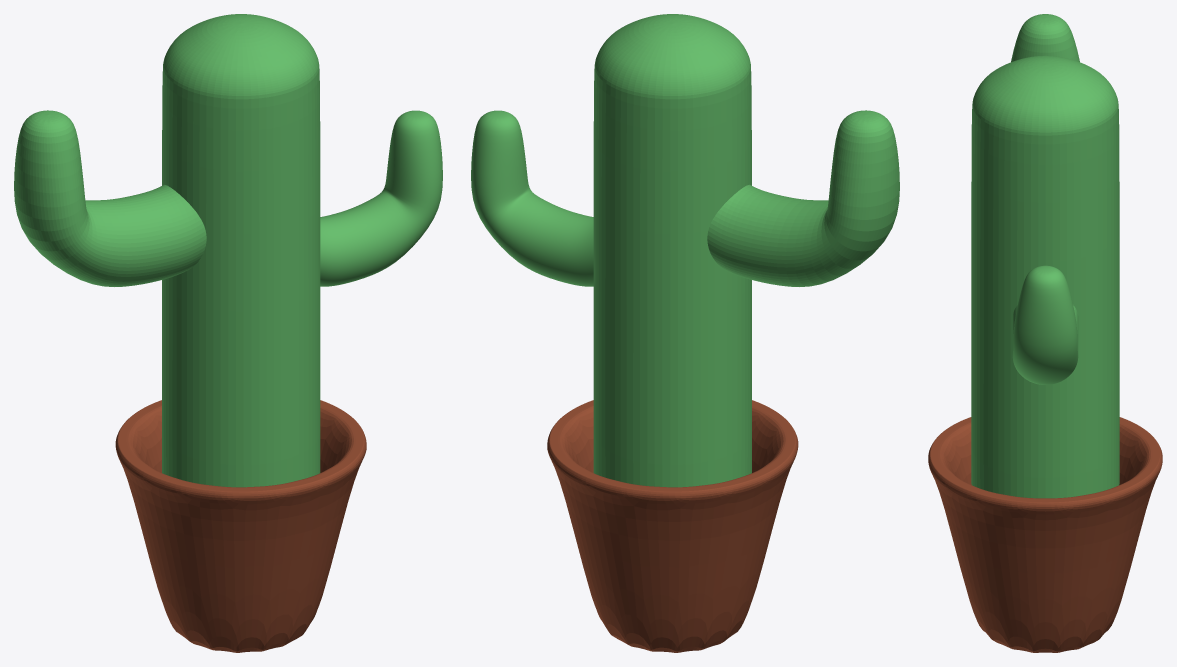
File: Cactus.fbx
The picture shows the model from 3 angles, left to right: view 1: azimuth 30°, elevation 25°; view 2: azimuth 150°, elevation 25°; view 3: azimuth 270°, elevation 25°; orthographic projection. The views are drawn at different scales.
Visible parts, largest first — view 1: Cilindro, Cylinder, Cilindro.001, Cilindro.002; view 2: Cilindro, Cylinder, Cilindro.001, Cilindro.002; view 3: Cilindro, Cylinder, Cilindro.002, Cilindro.001.
Part boxes in pixels (box(x1,y1,x2,y2)): Cilindro: box(162, 14, 320, 487); Cylinder: box(115, 400, 366, 652); Cilindro.001: box(14, 110, 206, 286); Cilindro.002: box(320, 110, 442, 286); Cilindro: box(593, 14, 751, 487); Cylinder: box(547, 400, 798, 652); Cilindro.001: box(707, 110, 899, 286); Cilindro.002: box(471, 110, 593, 286); Cilindro: box(971, 55, 1119, 498); Cylinder: box(928, 417, 1162, 652); Cilindro.002: box(1012, 265, 1078, 384); Cilindro.001: box(1011, 14, 1079, 61).
Size of the model in its own units: 415 by 575 by 216.
